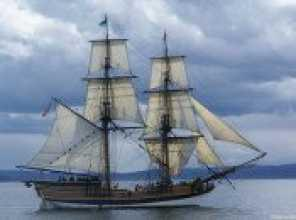fanchuan: (12, 7, 268, 203)
